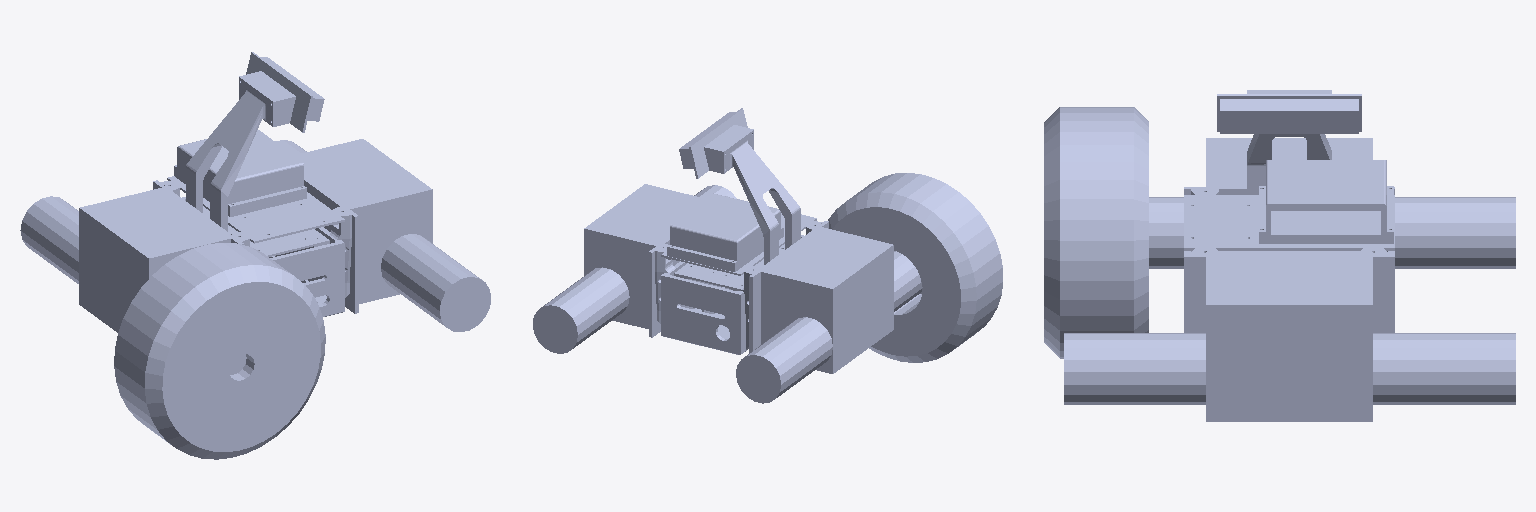
URDF robot description (RASSOR URDF WITH MESHES):
<?xml version="1.0" encoding="utf-8"?>
<!-- This URDF was automatically created by SolidWorks to URDF Exporter! Originally created by Stephen Brawner (brawner@gmail.com) 
     Commit Version: 1.6.0-4-g7f85cfe  Build Version: 1.6.7995.38578
     For more information, please see http://wiki.ros.org/sw_urdf_exporter -->
<robot
  name="RASSOR URDF WITH MESHES">
  <link
    name="BASE">
    <inertial>
      <origin
        xyz="0.139553070566409 0.133880416260512 0.172838352866278"
        rpy="0 0 0" />
      <mass
        value="6.04730235873931" />
      <inertia
        ixx="0.050667333746034"
        ixy="-0.000129048017300388"
        ixz="2.59990378944557E-08"
        iyy="0.0501176099643124"
        iyz="2.1051434180431E-08"
        izz="0.011208434603957" />
    </inertial>
    <visual>
      <origin
        xyz="0 0 0"
        rpy="0 0 0" />
      <geometry>
        <mesh
          filename="package://RASSOR URDF WITH MESHES/meshes/BASE.STL" />
      </geometry>
      <material
        name="">
        <color
          rgba="0.792156862745098 0.819607843137255 0.933333333333333 1" />
      </material>
    </visual>
    <collision>
      <origin
        xyz="0 0 0"
        rpy="0 0 0" />
      <geometry>
        <mesh
          filename="package://RASSOR URDF WITH MESHES/meshes/BASE.STL" />
      </geometry>
    </collision>
  </link>
  <link
    name="B-W1">
    <inertial>
      <origin
        xyz="0 -1.38777878078145E-17 -0.00226675278429586"
        rpy="0 0 0" />
      <mass
        value="3.30391410914092" />
      <inertia
        ixx="0.014080784493695"
        ixy="0"
        ixz="-5.05077307590103E-20"
        iyy="0.014080784493695"
        iyz="7.67217406475748E-20"
        izz="0.023364919828031" />
    </inertial>
    <visual>
      <origin
        xyz="0 0 0"
        rpy="0 0 0" />
      <geometry>
        <mesh
          filename="package://RASSOR URDF WITH MESHES/meshes/B-W1.STL" />
      </geometry>
      <material
        name="">
        <color
          rgba="0.792156862745098 0.819607843137255 0.933333333333333 1" />
      </material>
    </visual>
    <collision>
      <origin
        xyz="0 0 0"
        rpy="0 0 0" />
      <geometry>
        <mesh
          filename="package://RASSOR URDF WITH MESHES/meshes/B-W1.STL" />
      </geometry>
    </collision>
  </link>
  <joint
    name="Wheel 1"
    type="revolute">
    <origin
      xyz="0.2863 0 0.11332"
      rpy="1.5708 -0.036526 0" />
    <parent
      link="BASE" />
    <child
      link="B-W1" />
    <axis
      xyz="0 0 -1" />
    <limit
      lower="0"
      upper="0"
      effort="0"
      velocity="0" />
  </joint>
  <link
    name="B-W2">
    <inertial>
      <origin
        xyz="-6.93889390390723E-18 -1.38777878078145E-17 -0.00226675278429585"
        rpy="0 0 0" />
      <mass
        value="3.30391410914092" />
      <inertia
        ixx="0.014080784493695"
        ixy="-1.30104260698261E-18"
        ixz="-1.16018238621911E-19"
        iyy="0.014080784493695"
        iyz="1.4196513069374E-19"
        izz="0.023364919828031" />
    </inertial>
    <visual>
      <origin
        xyz="0 0 0"
        rpy="0 0 0" />
      <geometry>
        <mesh
          filename="package://RASSOR URDF WITH MESHES/meshes/B-W2.STL" />
      </geometry>
      <material
        name="">
        <color
          rgba="0.792156862745098 0.819607843137255 0.933333333333333 1" />
      </material>
    </visual>
    <collision>
      <origin
        xyz="0 0 0"
        rpy="0 0 0" />
      <geometry>
        <mesh
          filename="package://RASSOR URDF WITH MESHES/meshes/B-W2.STL" />
      </geometry>
    </collision>
  </link>
  <joint
    name="Wheel 2"
    type="revolute">
    <origin
      xyz="-0.0058772 0 0.11332"
      rpy="1.5708 -0.51093 0" />
    <parent
      link="BASE" />
    <child
      link="B-W2" />
    <axis
      xyz="0 0 -1" />
    <limit
      lower="0"
      upper="0"
      effort="0"
      velocity="0" />
  </joint>
  <link
    name="B-W3">
    <inertial>
      <origin
        xyz="3.46944695195361E-18 -2.77555756156289E-17 -0.0489261260975664"
        rpy="0 0 0" />
      <mass
        value="3.30391410914092" />
      <inertia
        ixx="0.0140807844936951"
        ixy="-2.16840434497101E-19"
        ixz="-3.98163543484029E-19"
        iyy="0.0140807844936951"
        iyz="9.61227061651265E-19"
        izz="0.023364919828031" />
    </inertial>
    <visual>
      <origin
        xyz="0 0 0"
        rpy="0 0 0" />
      <geometry>
        <mesh
          filename="package://RASSOR URDF WITH MESHES/meshes/B-W3.STL" />
      </geometry>
      <material
        name="">
        <color
          rgba="0.792156862745098 0.819607843137255 0.933333333333333 1" />
      </material>
    </visual>
    <collision>
      <origin
        xyz="0 0 0"
        rpy="0 0 0" />
      <geometry>
        <mesh
          filename="package://RASSOR URDF WITH MESHES/meshes/B-W3.STL" />
      </geometry>
    </collision>
  </link>
  <joint
    name="Wheel 3"
    type="revolute">
    <origin
      xyz="-0.0058772 -0.30031 0.11332"
      rpy="1.5708 0.20867 -3.1416" />
    <parent
      link="BASE" />
    <child
      link="B-W3" />
    <axis
      xyz="0 0 -1" />
    <limit
      lower="0"
      upper="0"
      effort="0"
      velocity="0" />
  </joint>
  <link
    name="B-W4">
    <inertial>
      <origin
        xyz="0 0 -0.0489261260975665"
        rpy="0 0 0" />
      <mass
        value="3.30391410914092" />
      <inertia
        ixx="0.0140807844936951"
        ixy="-2.16840434497101E-19"
        ixz="-2.14131782225971E-19"
        iyy="0.0140807844936951"
        iyz="9.51866693857056E-19"
        izz="0.0233649198280311" />
    </inertial>
    <visual>
      <origin
        xyz="0 0 0"
        rpy="0 0 0" />
      <geometry>
        <mesh
          filename="package://RASSOR URDF WITH MESHES/meshes/B-W4.STL" />
      </geometry>
      <material
        name="">
        <color
          rgba="0.792156862745098 0.819607843137255 0.933333333333333 1" />
      </material>
    </visual>
    <collision>
      <origin
        xyz="0 0 0"
        rpy="0 0 0" />
      <geometry>
        <mesh
          filename="package://RASSOR URDF WITH MESHES/meshes/B-W4.STL" />
      </geometry>
    </collision>
  </link>
  <joint
    name="Wheel 4"
    type="revolute">
    <origin
      xyz="0.2863 -0.30031 0.11332"
      rpy="1.5708 0.19754 -3.1416" />
    <parent
      link="BASE" />
    <child
      link="B-W4" />
    <axis
      xyz="0 0 -1" />
    <limit
      lower="0"
      upper="0"
      effort="0"
      velocity="0" />
  </joint>
  <link
    name="B-C">
    <inertial>
      <origin
        xyz="0.008575 0.0176374999999988 -0.0397509900990099"
        rpy="0 0 0" />
      <mass
        value="0.0574670775000001" />
      <inertia
        ixx="7.88407118561126E-05"
        ixy="3.3881317890172E-21"
        ixz="2.02195574000089E-21"
        iyy="7.68352664913641E-05"
        iyz="-4.07867026920939E-21"
        izz="4.82250544841407E-06" />
    </inertial>
    <visual>
      <origin
        xyz="0 0 0"
        rpy="0 0 0" />
      <geometry>
        <mesh
          filename="package://RASSOR URDF WITH MESHES/meshes/B-C.STL" />
      </geometry>
      <material
        name="">
        <color
          rgba="0.792156862745098 0.819607843137255 0.933333333333333 1" />
      </material>
    </visual>
    <collision>
      <origin
        xyz="0 0 0"
        rpy="0 0 0" />
      <geometry>
        <mesh
          filename="package://RASSOR URDF WITH MESHES/meshes/B-C.STL" />
      </geometry>
    </collision>
  </link>
  <joint
    name="Camera"
    type="fixed">
    <origin
      xyz="0.16608 -0.21323 0.30082"
      rpy="1.5708 0.2618 0" />
    <parent
      link="BASE" />
    <child
      link="B-C" />
    <axis
      xyz="0 0 0" />
    <limit
      lower="0"
      upper="0"
      effort="0"
      velocity="0" />
  </joint>
</robot>

--- Facts derived from the render (not from the file) ---
3 views of the same robot in one strip: view 1: azimuth 30°, elevation 25°; view 2: azimuth 150°, elevation 25°; view 3: azimuth 270°, elevation 25° (orthographic).
Robot: RASSOR URDF WITH MESHES — 6 links, 5 joints (4 revolute, 1 fixed); root link BASE; default pose: all joints at 0.
Visible links, largest first — view 1: BASE, B-W3, B-C; view 2: BASE, B-W3; view 3: BASE, B-W3, B-C.
Link boxes in pixels (box(x1,y1,x2,y2)): BASE: box(20, 52, 490, 374); B-W3: box(114, 243, 325, 459); B-C: box(261, 57, 324, 121); BASE: box(533, 108, 922, 403); B-W3: box(828, 173, 1002, 362); BASE: box(1064, 90, 1515, 421); B-W3: box(1044, 107, 1148, 358); B-C: box(1220, 99, 1358, 133).
Bounding box of the posed robot: 0.4391 × 0.4263 × 0.3359 m (x, y, z).
3 mesh visuals loaded from 6 distinct referenced files (3 binary STL); not drawn: 3 (reference not matched to a file when rendering).
